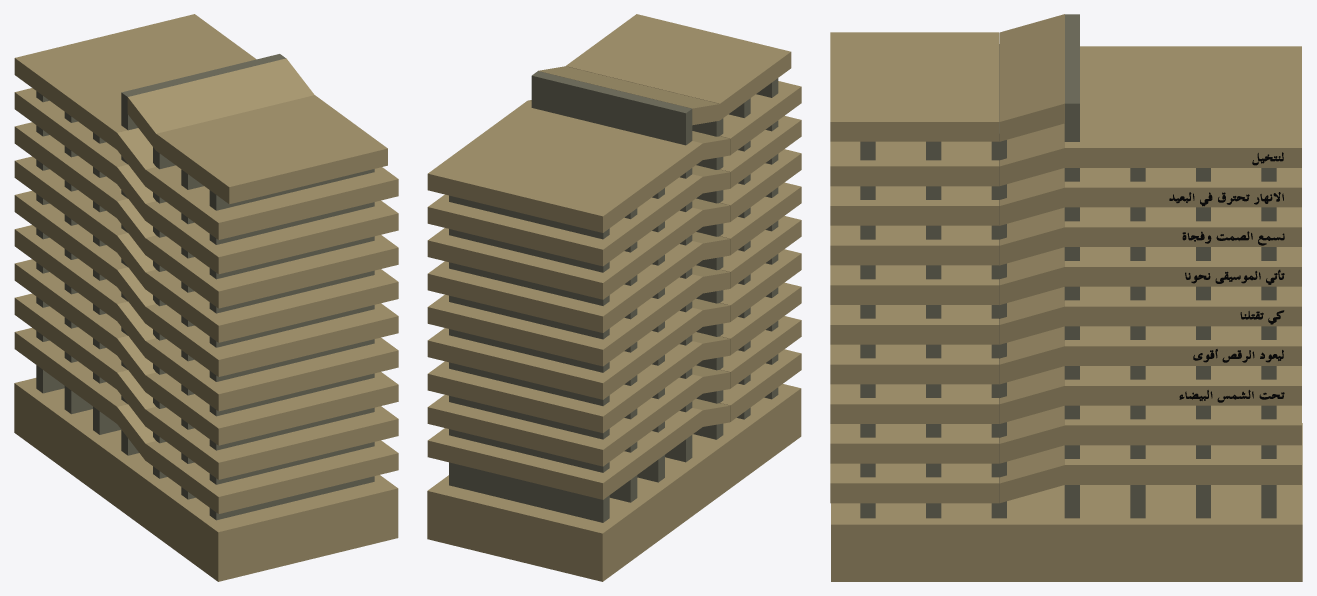
Rendered from building3.fbx.
3 views of the same model, side by side, from view 1: azimuth 30°, elevation 25°; view 2: azimuth 150°, elevation 25°; view 3: azimuth 270°, elevation 25° (orthographic). The views are drawn at different scales.
Parts seen in each view (by area): view 1: Cube.007; view 2: Cube.007; view 3: Cube.007.
Boxes of the visible parts, box(x1,y1,x2,y2) form: Cube.007: box(14, 14, 398, 581); Cube.007: box(427, 14, 801, 581); Cube.007: box(830, 14, 1302, 581).
Size of the model in its own units: 1109 by 2384 by 2162.
